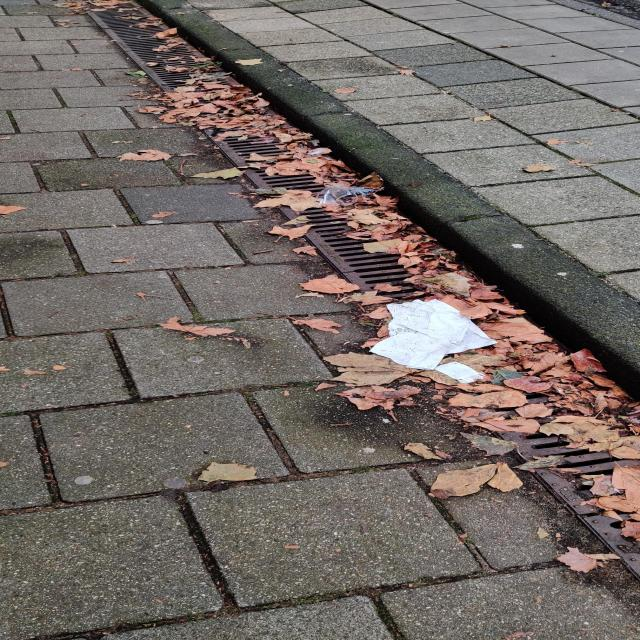litter: (371, 302, 498, 382)
